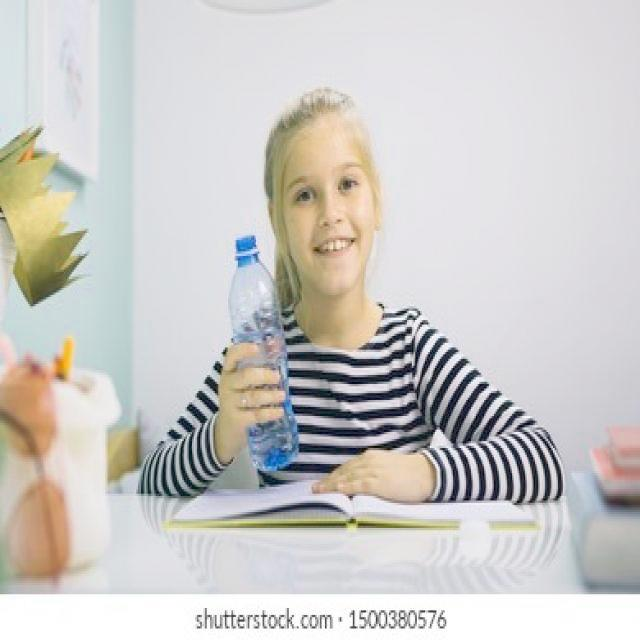bottle: (227, 235, 298, 472)
